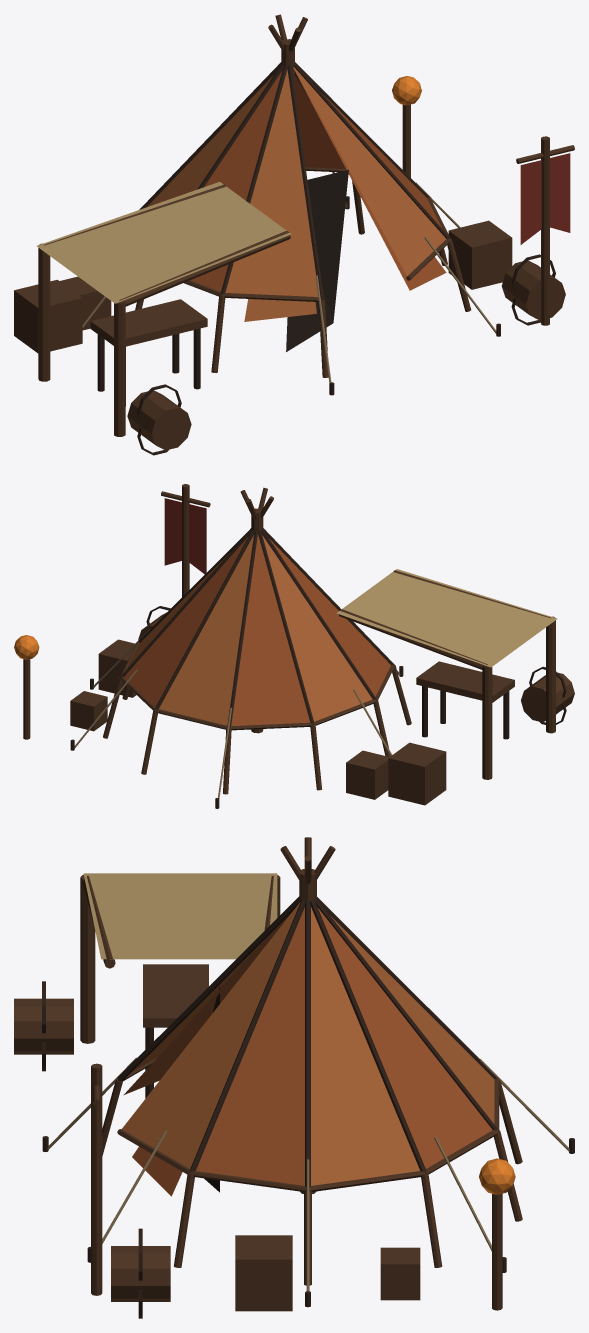
File: Campsite_Tent.obj
3 renders of one model, top to bottom at view 1: azimuth 30°, elevation 25°; view 2: azimuth 150°, elevation 25°; view 3: azimuth 270°, elevation 25°, orthographic. The views are drawn at different scales.
Size of the model in its own units: 7.61 by 4.54 by 6.37.
